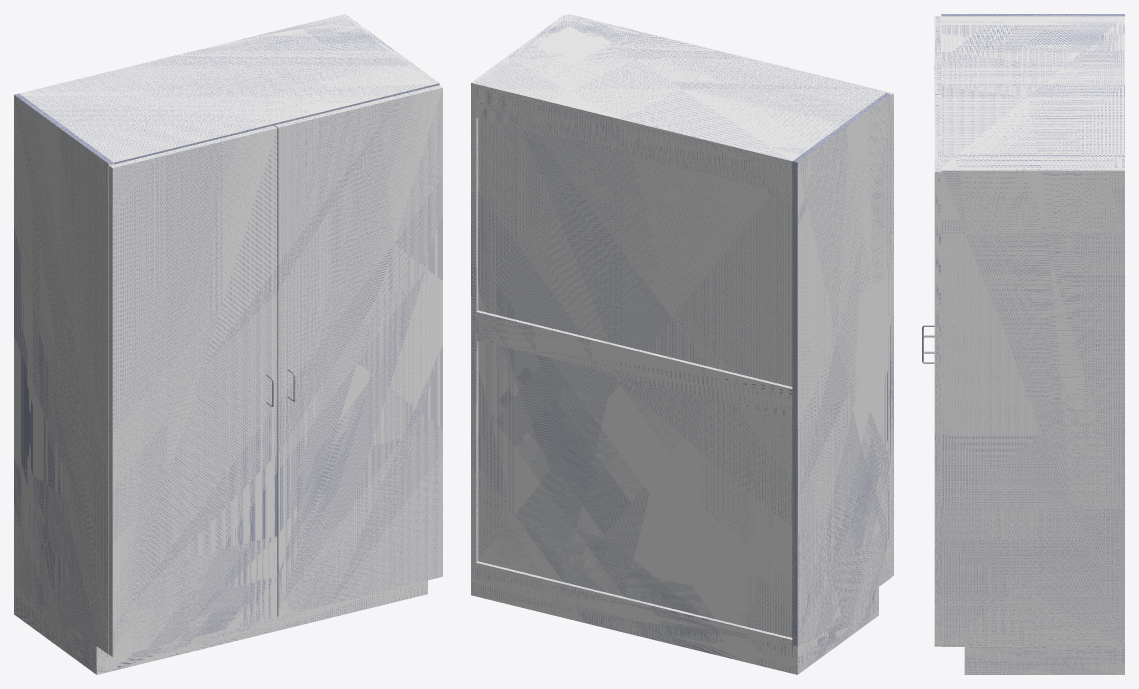
File: closet.fbx
3 views of the same model, side by side, from view 1: azimuth 30°, elevation 25°; view 2: azimuth 150°, elevation 25°; view 3: azimuth 270°, elevation 25° (orthographic). The views are drawn at different scales.
Visible parts, largest first — view 1: DR1P1, DR2P1, NFEL_1_1, TP, Base, LP; view 2: BKP, NFEL_1_1, TP, Base, BRM_1_1, BR1, RP, LP, BP, DR1P1; view 3: NFER1, TP, Base, DR2P1, DR1P1, RP, LP.
Boxes of the visible parts, bbox=[...] form: DR1P1: bbox=[109, 125, 277, 657]; DR2P1: bbox=[274, 85, 442, 616]; NFEL_1_1: bbox=[14, 95, 108, 654]; TP: bbox=[19, 15, 434, 164]; Base: bbox=[14, 580, 427, 674]; LP: bbox=[14, 93, 113, 654]; BKP: bbox=[478, 118, 792, 637]; NFEL_1_1: bbox=[797, 94, 890, 645]; TP: bbox=[476, 16, 885, 166]; Base: bbox=[471, 567, 878, 674]; BRM_1_1: bbox=[476, 310, 792, 417]; BR1: bbox=[476, 89, 792, 194]; RP: bbox=[471, 14, 568, 567]; LP: bbox=[792, 93, 890, 646]; BP: bbox=[476, 561, 792, 644]; DR1P1: bbox=[730, 54, 893, 577]; NFER1: bbox=[941, 170, 1124, 646]; TP: bbox=[941, 16, 1124, 168]; Base: bbox=[964, 647, 1124, 674]; DR2P1: bbox=[934, 94, 941, 646]; DR1P1: bbox=[934, 16, 941, 94]; RP: bbox=[941, 168, 1124, 170]; LP: bbox=[941, 14, 1124, 16].
Bounding box in the file's own units: 48 × 72 × 26.25.
